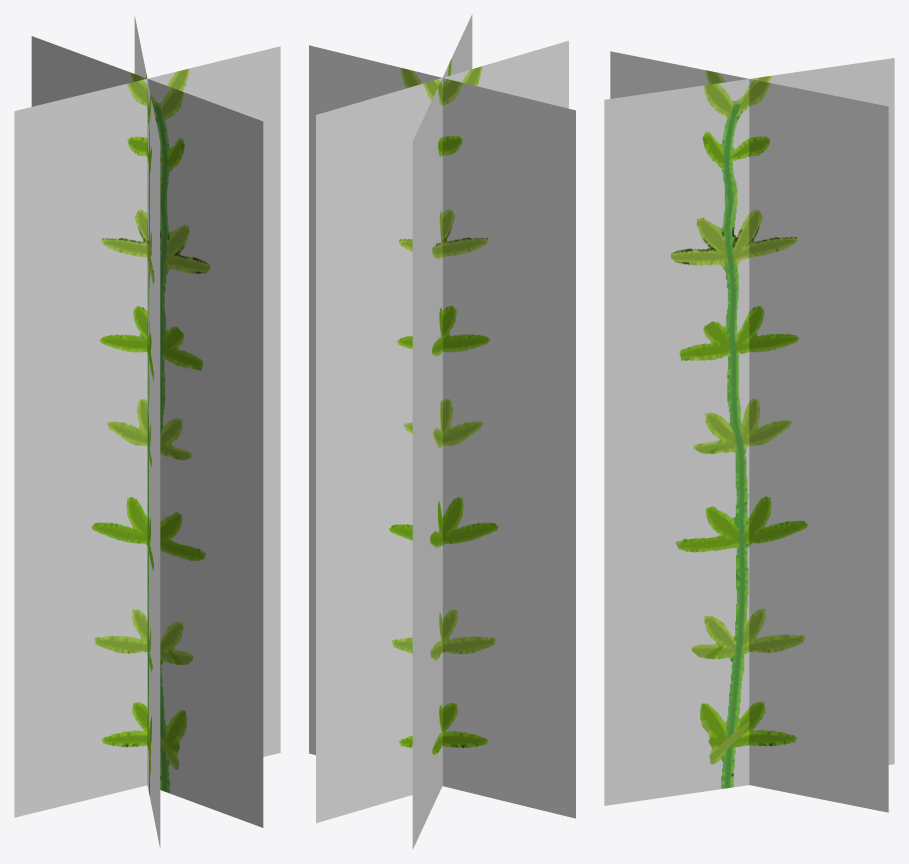
Rendered from hydrilla.fbx.
3 renders of one model, left to right at view 1: azimuth 30°, elevation 25°; view 2: azimuth 150°, elevation 25°; view 3: azimuth 270°, elevation 25°, orthographic.
Parts seen in each view (by area): view 1: pPlane8, pPlane6, pPlane9, pPlane7, pPlane5; view 2: pPlane8, pPlane5, pPlane9, pPlane6, pPlane7; view 3: pPlane6, pPlane3, pPlane7.
Boxes of the visible parts, x1,y1,x2,y2 form: pPlane8: [14, 46, 280, 817]; pPlane6: [31, 36, 263, 827]; pPlane9: [14, 52, 280, 817]; pPlane7: [32, 37, 263, 826]; pPlane5: [134, 16, 160, 848]; pPlane8: [309, 45, 575, 818]; pPlane5: [316, 40, 568, 823]; pPlane9: [309, 51, 575, 817]; pPlane6: [412, 14, 472, 849]; pPlane7: [413, 21, 472, 846]; pPlane6: [604, 58, 894, 805]; pPlane3: [610, 51, 888, 812]; pPlane7: [604, 59, 894, 805].
Bounding box in the file's own units: 35.02 × 88.84 × 33.14.
